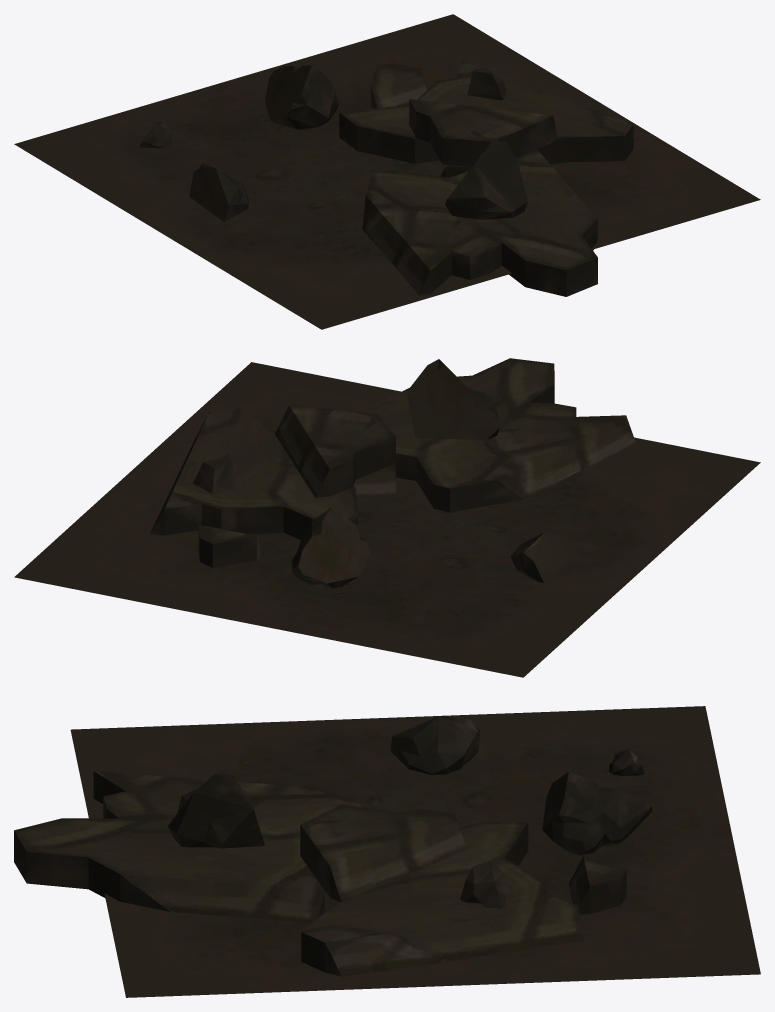
File: fortress_rubble_04.fbx
3 renders of one model, top to bottom at view 1: azimuth 30°, elevation 25°; view 2: azimuth 150°, elevation 25°; view 3: azimuth 270°, elevation 25°, orthographic. The views are drawn at different scales.
Visible parts, largest first — view 1: fortress_rubble_04-0; view 2: fortress_rubble_04-0; view 3: fortress_rubble_04-0.
Part boxes in pixels (x1=…): fortress_rubble_04-0: x1=14, y1=14, x2=760, y2=329; fortress_rubble_04-0: x1=14, y1=358, x2=760, y2=677; fortress_rubble_04-0: x1=14, y1=706, x2=760, y2=997.
Size of the model in its own units: 3.44 by 0.5895 by 3.72.
